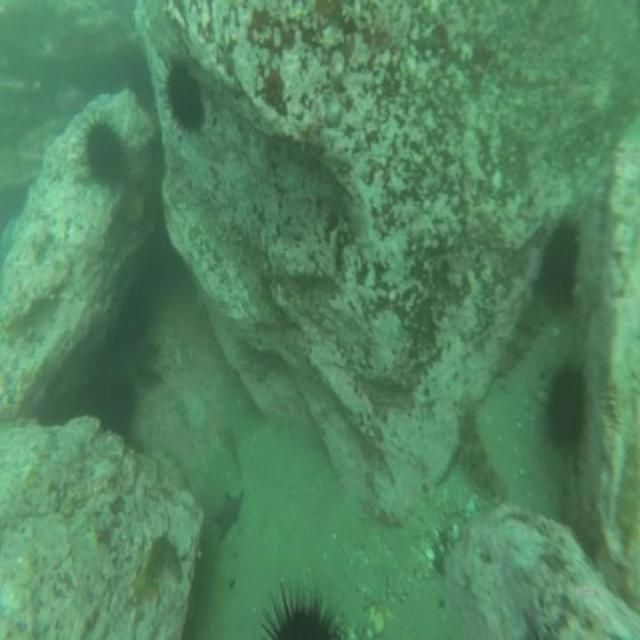echinus: (541, 346, 592, 465), (536, 212, 585, 311), (163, 54, 206, 139), (83, 115, 127, 188)
holothurian: (457, 398, 507, 506), (132, 531, 184, 607)
starfish: (211, 486, 246, 546)
